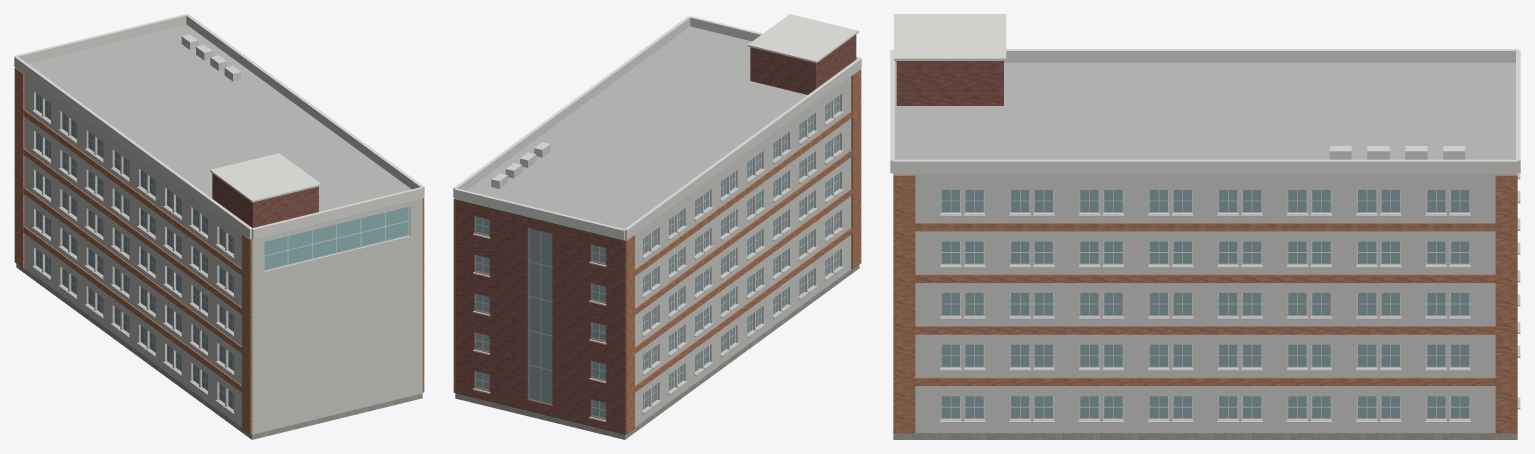
The picture shows the model from 3 angles, left to right: view 1: azimuth 30°, elevation 25°; view 2: azimuth 150°, elevation 25°; view 3: azimuth 270°, elevation 25°; orthographic projection. The views are drawn at different scales.
Visible parts, largest first — view 1: mid-wing__white, mid-wing__roof, mid-wing__cap, mid-wing__brick, mid-wing__sideglass, mid-wing__frame, mid-wing__tealglass, mid-wing__darkbrick, mid-wing__sill, mid-wing__stone, mid-wing__unit; view 2: mid-wing__roof, mid-wing__darkbrick, mid-wing__white, mid-wing__cap, mid-wing__sideglass, mid-wing__brick, mid-wing__frame, mid-wing__sill, mid-wing__stone, mid-wing__glass, mid-wing__unit; view 3: mid-wing__white, mid-wing__roof, mid-wing__glass, mid-wing__brick, mid-wing__cap, mid-wing__frame, mid-wing__sill, mid-wing__darkbrick, mid-wing__stone, mid-wing__unit.
Boxes of the visible parts, box(x1,y1,x2,y2) form: mid-wing__white: box(24, 74, 422, 434); mid-wing__roof: box(27, 24, 411, 239); mid-wing__cap: box(14, 14, 424, 239); mid-wing__brick: box(14, 67, 424, 434); mid-wing__sideglass: box(36, 93, 233, 409); mid-wing__frame: box(36, 93, 409, 409); mid-wing__tealglass: box(264, 207, 408, 269); mid-wing__darkbrick: box(212, 173, 318, 227); mid-wing__sill: box(32, 110, 234, 413); mid-wing__stone: box(16, 264, 422, 439); mid-wing__unit: box(181, 34, 241, 81); mid-wing__roof: box(466, 26, 807, 240); mid-wing__darkbrick: box(455, 34, 856, 434); mid-wing__white: box(634, 76, 851, 427); mid-wing__cap: box(453, 14, 861, 240); mid-wing__sideglass: box(529, 95, 839, 409); mid-wing__brick: box(453, 69, 861, 434); mid-wing__frame: box(475, 95, 839, 418); mid-wing__sill: box(473, 111, 843, 422); mid-wing__stone: box(455, 264, 859, 439); mid-wing__glass: box(476, 216, 605, 418); mid-wing__unit: box(491, 142, 550, 188); mid-wing__white: box(915, 175, 1495, 432); mid-wing__roof: box(893, 62, 1517, 174); mid-wing__glass: box(941, 190, 1469, 418); mid-wing__brick: box(893, 175, 1517, 433); mid-wing__cap: box(890, 14, 1520, 174); mid-wing__frame: box(940, 190, 1470, 419); mid-wing__sill: box(940, 173, 1520, 423); mid-wing__darkbrick: box(896, 61, 1003, 105); mid-wing__stone: box(893, 433, 1517, 439); mid-wing__unit: box(1329, 146, 1465, 159).
Bounding box in the file's own units: 16.88 × 22.07 × 39.88.
Materials: 13 (4 with a texture image).
